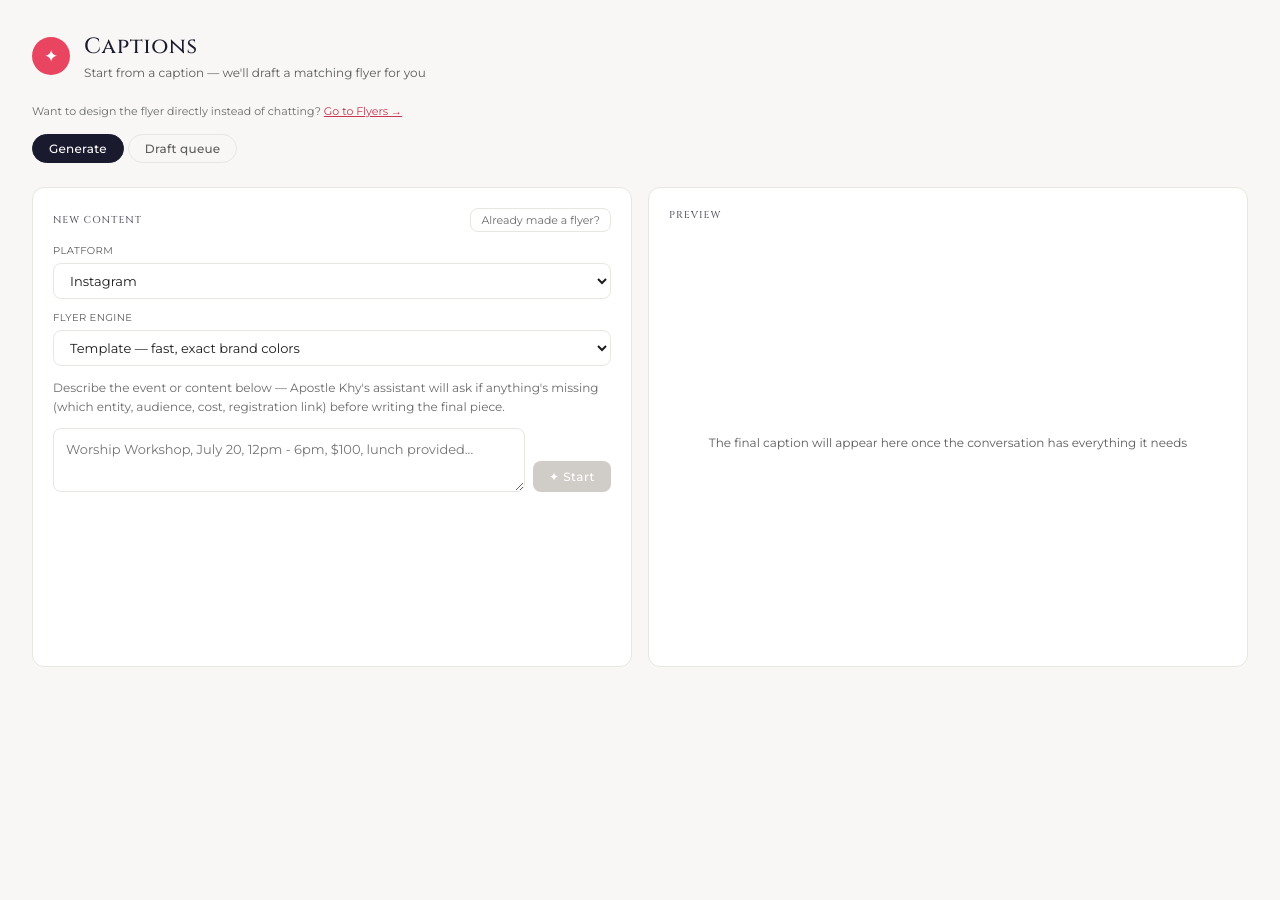
shows an error if approving a queued draft fails
Click the button "Draft queue" at (183, 148), box [128,134,237,163]
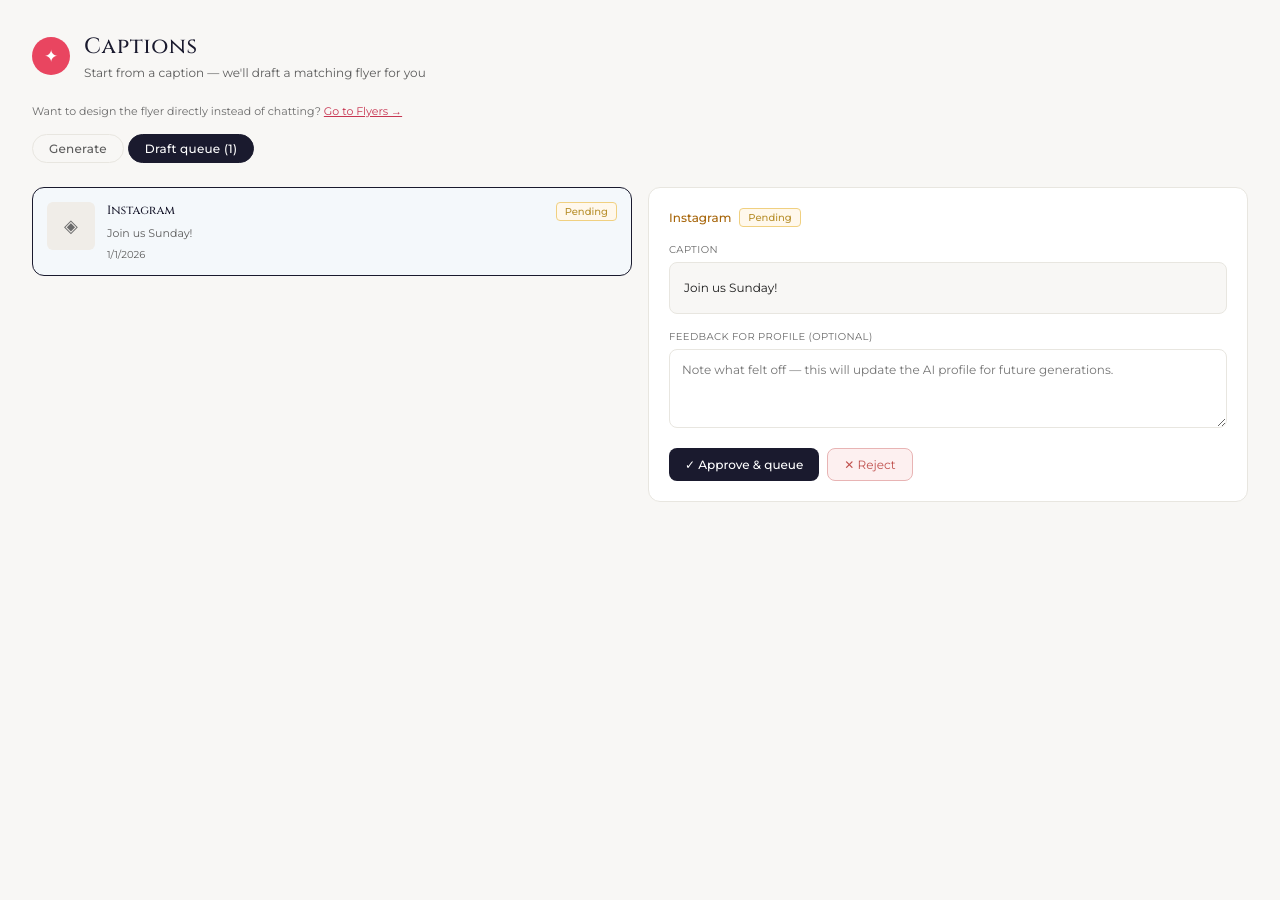
Click the button "✓ Approve & queue" at (744, 465), box [669,448,819,481]
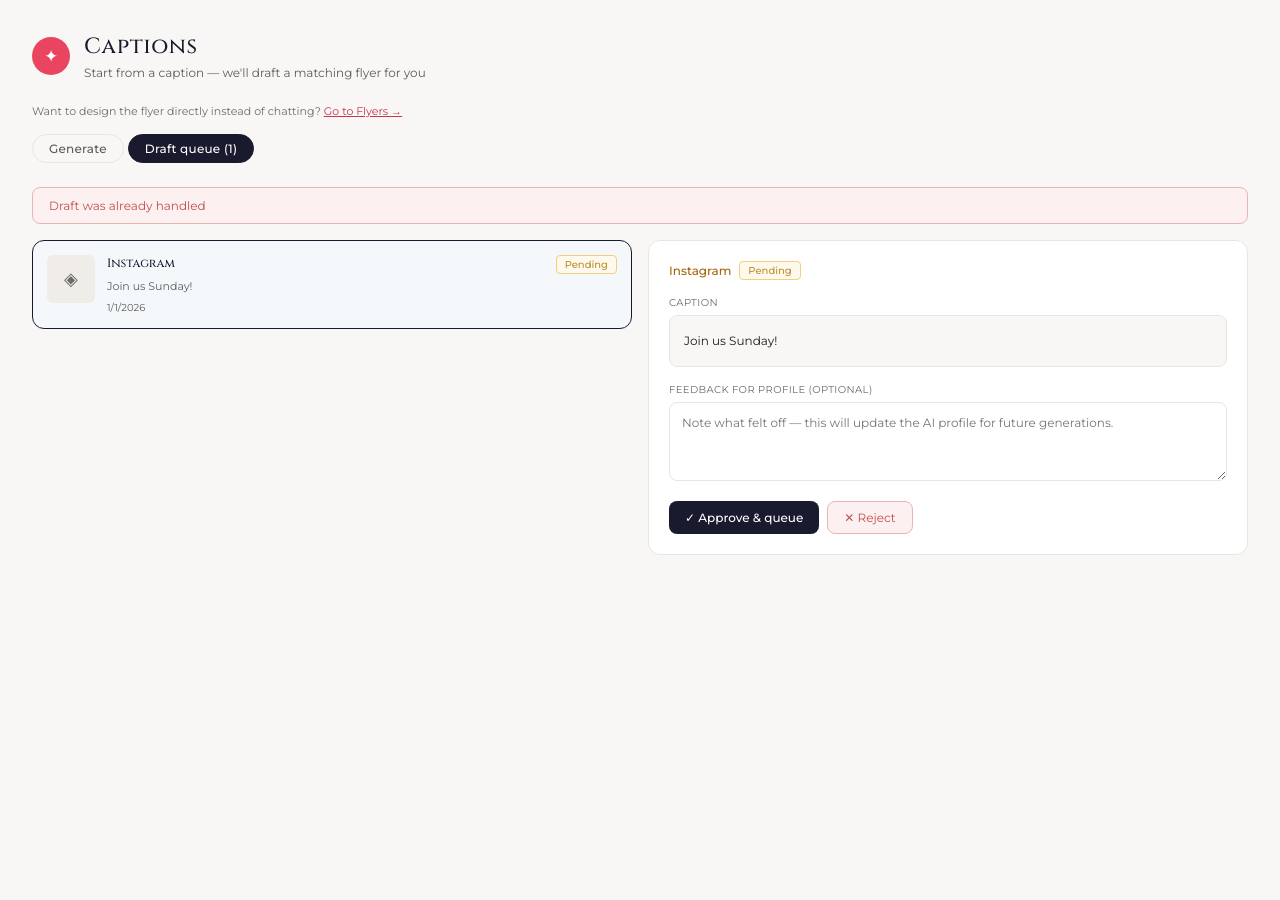
Expected: the text "Draft was already handled" is shown, [32,187,1248,224]
